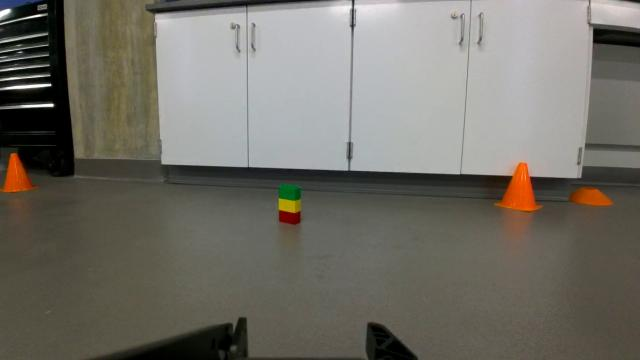lego: (269, 178, 307, 233)
